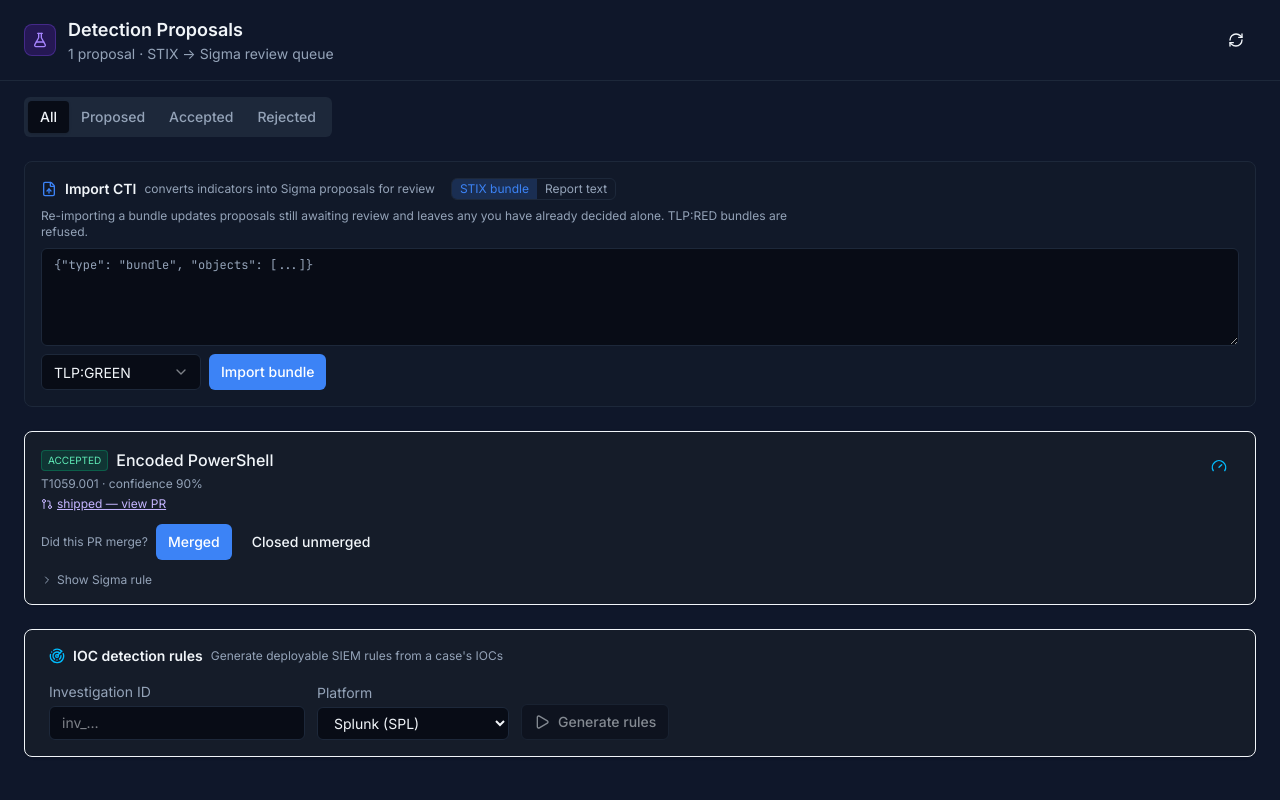
Test: DetectionProposalsPage › records a merge and reports what the closed loop actually did
This screenshot has width=1280, height=800.
Click the button with test id "proposal-pr-merged-btn-prop_PR".
click(194, 542)  # box x1=156 y1=524 x2=232 y2=560
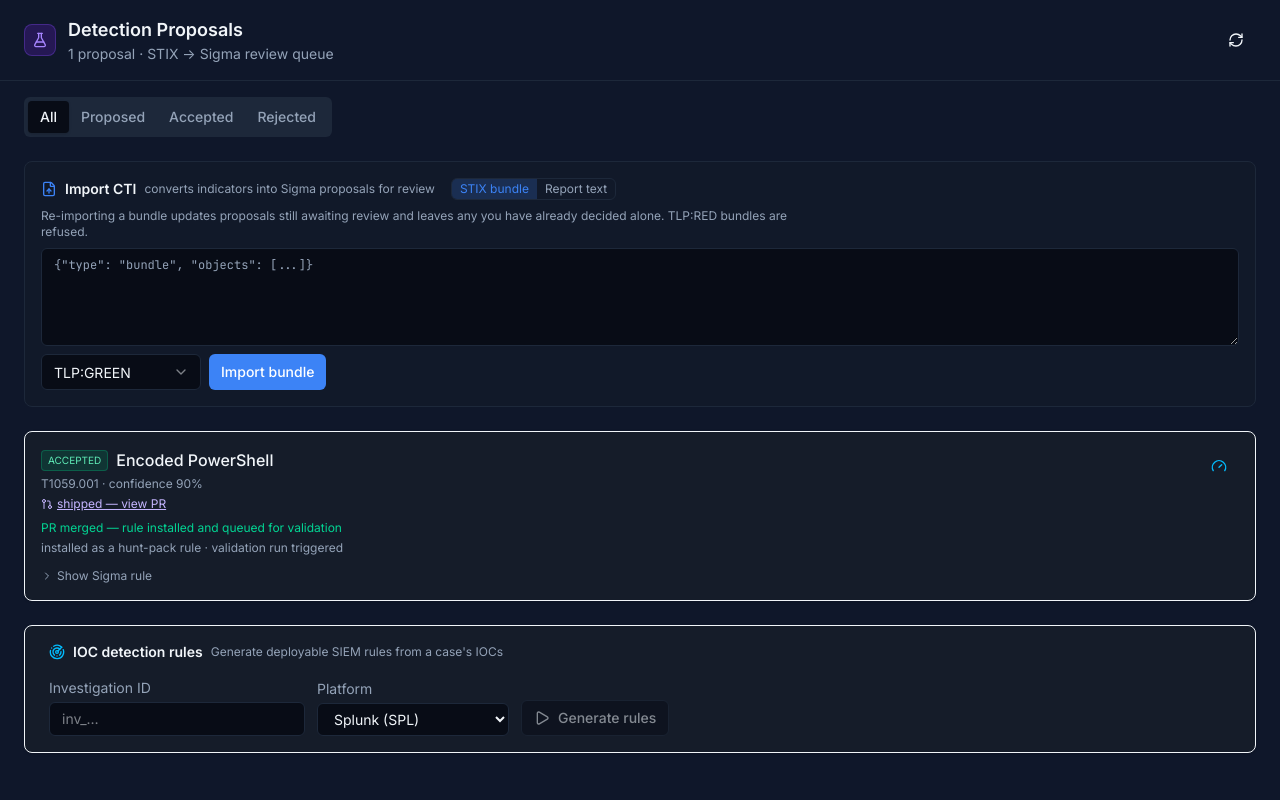
Expected: the text with test id "proposal-closed-loop-prop_PR" shows "installed as a hunt-pack rule", x1=41 y1=540 x2=201 y2=555
Expected: the text with test id "proposal-closed-loop-prop_PR" shows "validation run triggered", x1=211 y1=540 x2=343 y2=555
